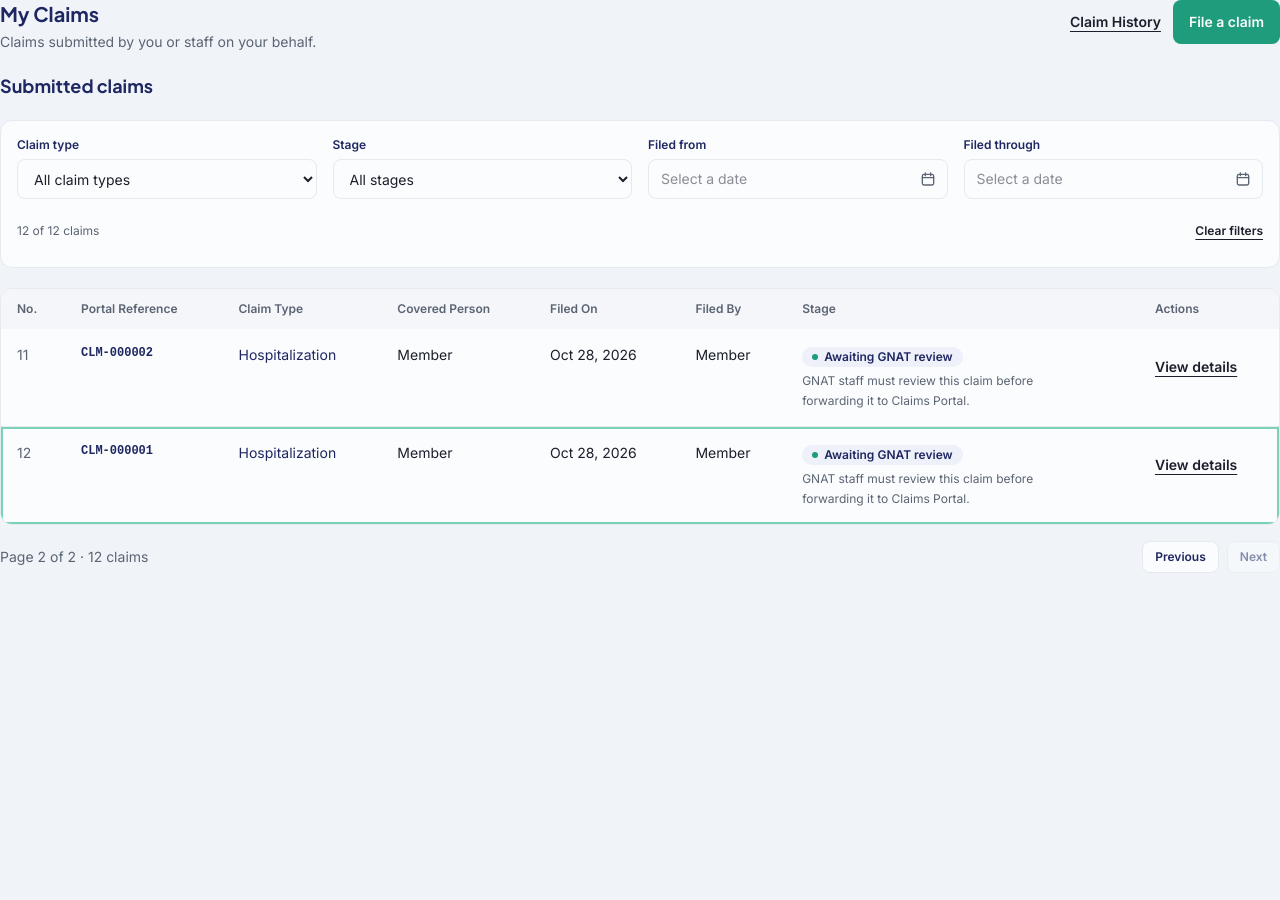
selects and focuses an anchored claim beyond page one without trapping pagination
This screenshot has width=1280, height=900.
Expected: the text "Page 2 of 2 · 12 claims" is shown, [0,547,148,567]
Click the button "Previous" at (1180, 557), box [1142,541,1219,573]
(page scrolled)
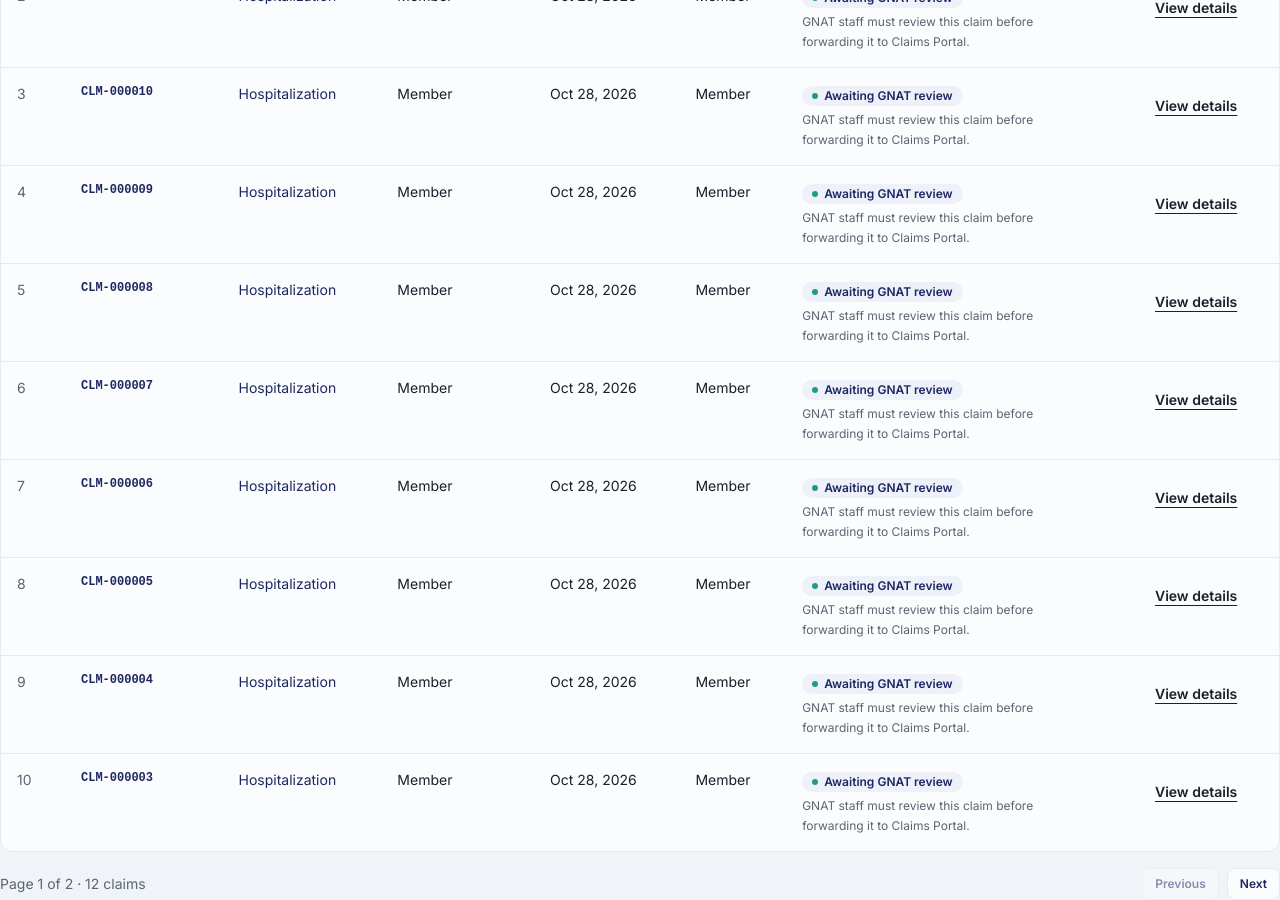
Expected: the text "Page 1 of 2 · 12 claims" is shown, [0,874,146,894]
